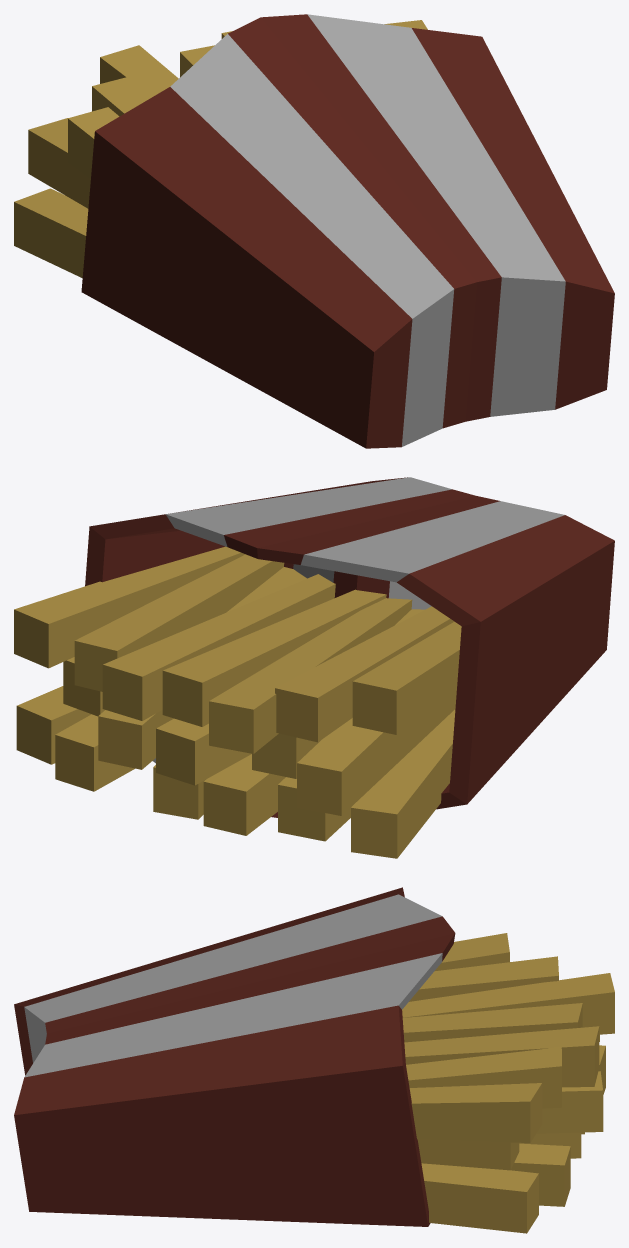
Rendered from Fries.glb.
3 views of the same model, one above another, from view 1: azimuth 30°, elevation 25°; view 2: azimuth 150°, elevation 25°; view 3: azimuth 270°, elevation 25° (orthographic). The views are drawn at different scales.
Visible parts, largest first — view 1: Fries; view 2: Fries; view 3: Fries.
Boxes of the visible parts, x1,y1,x2,y2 form: Fries: [14, 14, 614, 448]; Fries: [14, 477, 614, 858]; Fries: [14, 887, 614, 1233].
Size of the model in its own units: 0.1423 by 0.0879 by 0.1989.
